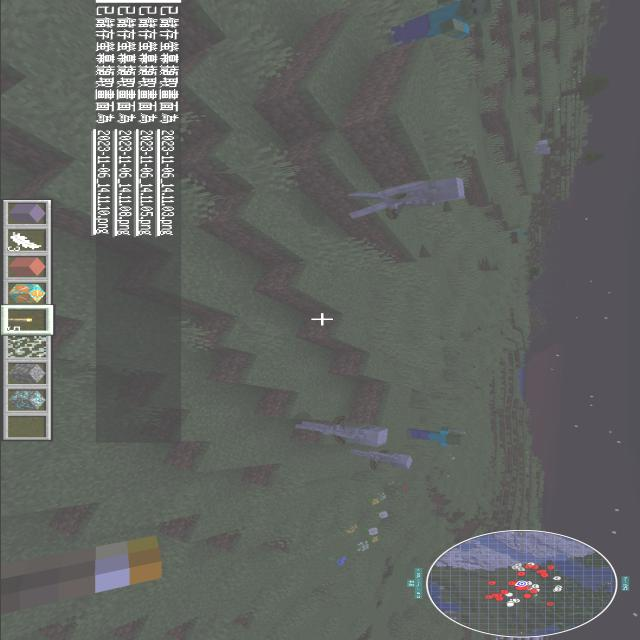Skeleton: (333, 174, 467, 224), (291, 412, 397, 447), (340, 444, 416, 472)
Spider: (499, 228, 519, 248)
Zombie: (367, 0, 507, 55), (397, 423, 473, 449), (516, 230, 536, 241)
